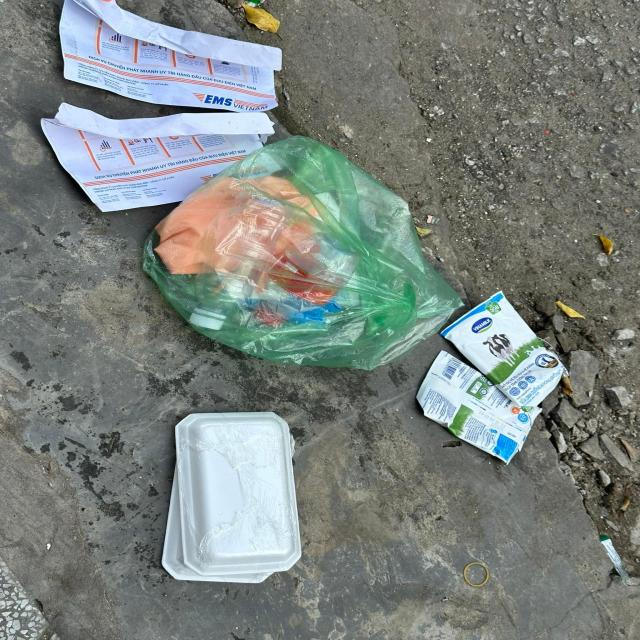foam box: (175, 412, 303, 576)
packet: (438, 290, 569, 407), (415, 350, 543, 465)
paper: (38, 102, 282, 213), (59, 0, 283, 113)
trash bag: (141, 136, 466, 372)
